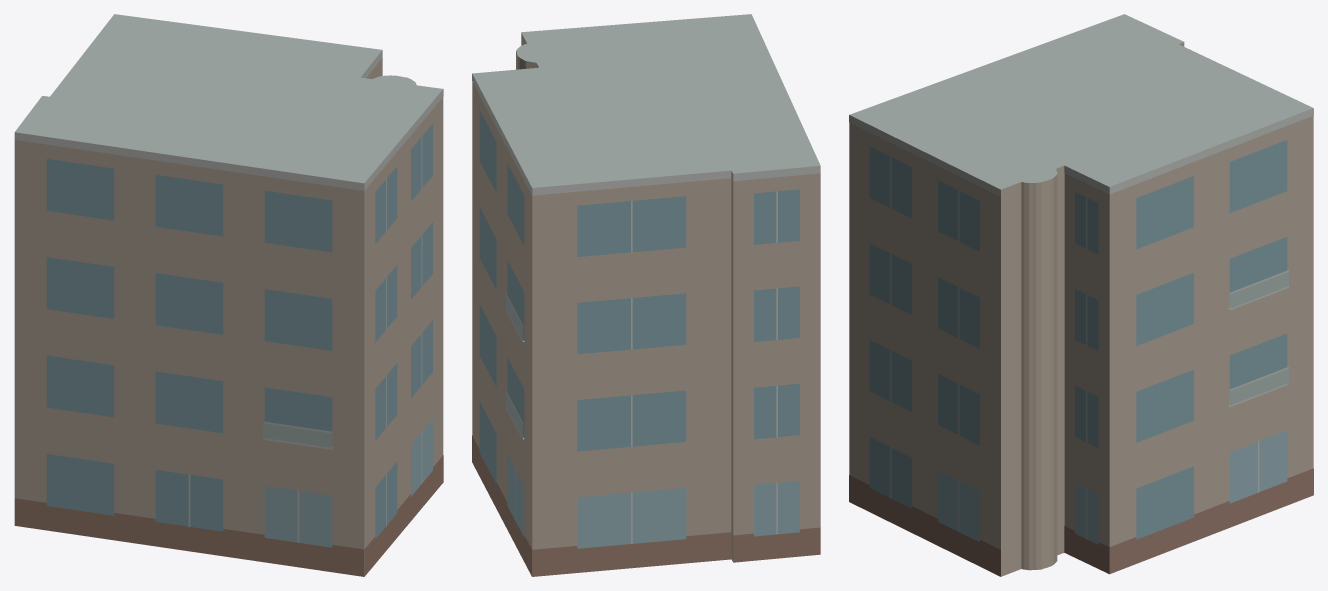
File: survey-upis-32669449.glb
3 views of the same model, side by side, from view 1: azimuth 30°, elevation 25°; view 2: azimuth 150°, elevation 25°; view 3: azimuth 270°, elevation 25° (orthographic).
Visible parts, largest first — view 1: survey-upis-32669449.tmp; view 2: survey-upis-32669449.tmp; view 3: survey-upis-32669449.tmp.
Boxes of the visible parts, x1,y1,x2,y2 form: survey-upis-32669449.tmp: [14, 14, 443, 576]; survey-upis-32669449.tmp: [472, 14, 820, 576]; survey-upis-32669449.tmp: [849, 14, 1313, 576].
Size of the model in its own units: 12.27 by 12.6 by 13.71.
